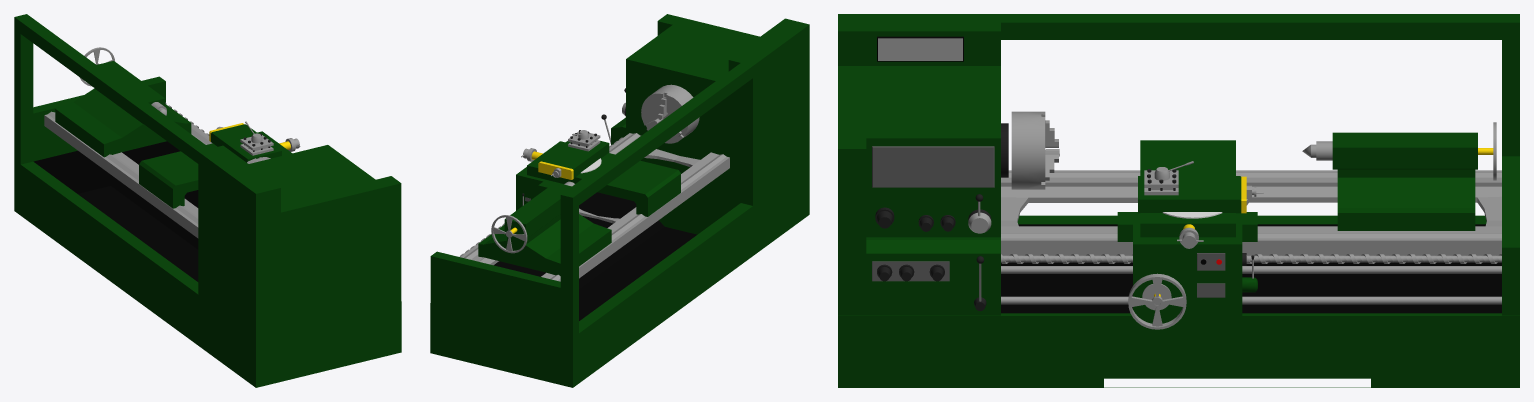
The model's file is 16К20_stankin2.fbx.
3 renders of one model, left to right at view 1: azimuth 30°, elevation 25°; view 2: azimuth 150°, elevation 25°; view 3: azimuth 270°, elevation 25°, orthographic. The views are drawn at different scales.
Visible parts, largest first — view 1: Korpus, ZadBabka, Stanina, Suport, PovorotSalazki, Rezciderz; view 2: Korpus, ZadBabka, Stanina, Suport, PovorotSalazki, Patron, ShturvalPinola, Rezciderz; view 3: Korpus, Stanina, Suport, ZadBabka, Val1, VintVal, PovorotSalazki, Val2, Patron, ShturvalSuporta, Rezciderz.
Boxes of the visible parts, <box> form: Korpus: <box>14,14,401,387</box>; ZadBabka: <box>55,61,191,157</box>; Stanina: <box>44,111,212,238</box>; Suport: <box>139,131,292,208</box>; PovorotSalazki: <box>209,123,281,162</box>; Rezciderz: <box>240,121,273,155</box>; Korpus: <box>430,14,809,387</box>; ZadBabka: <box>478,182,611,275</box>; Stanina: <box>460,133,729,281</box>; Suport: <box>516,141,680,216</box>; PovorotSalazki: <box>538,141,609,179</box>; Patron: <box>641,84,699,143</box>; ShturvalPinola: <box>491,215,527,253</box>; Rezciderz: <box>568,130,600,151</box>; Korpus: <box>838,14,1519,387</box>; Stanina: <box>1001,170,1501,255</box>; Suport: <box>1117,140,1257,319</box>; ZadBabka: <box>1332,132,1477,230</box>; Val1: <box>1001,296,1501,304</box>; VintVal: <box>1001,254,1501,263</box>; PovorotSalazki: <box>1138,176,1251,213</box>; Val2: <box>1001,266,1501,273</box>; Patron: <box>1011,111,1045,189</box>; ShturvalSuporta: <box>1128,273,1186,329</box>; Rezciderz: <box>1144,161,1193,195</box>.
Size of the model in its own units: 3581 by 3952 by 8919.
